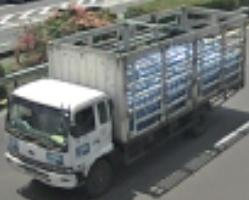truck: (1, 74, 122, 196)
